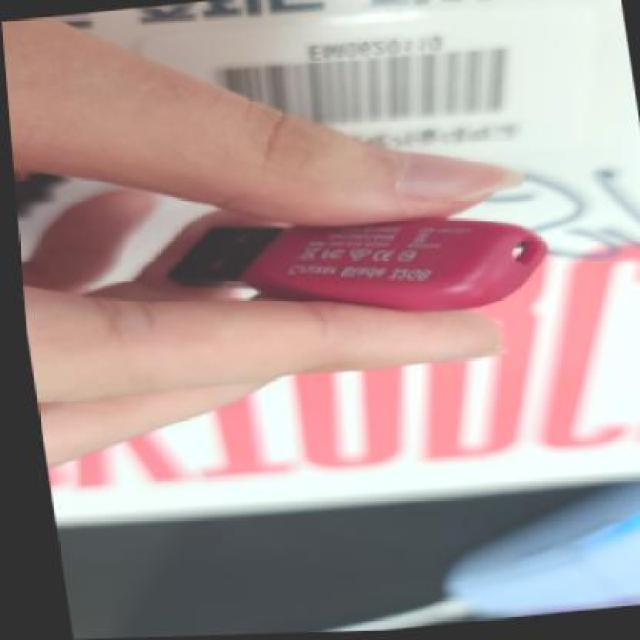Flashdisk: (154, 194, 555, 343)
